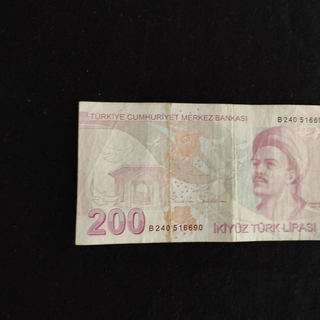200TLBack: (74, 98, 320, 246)
